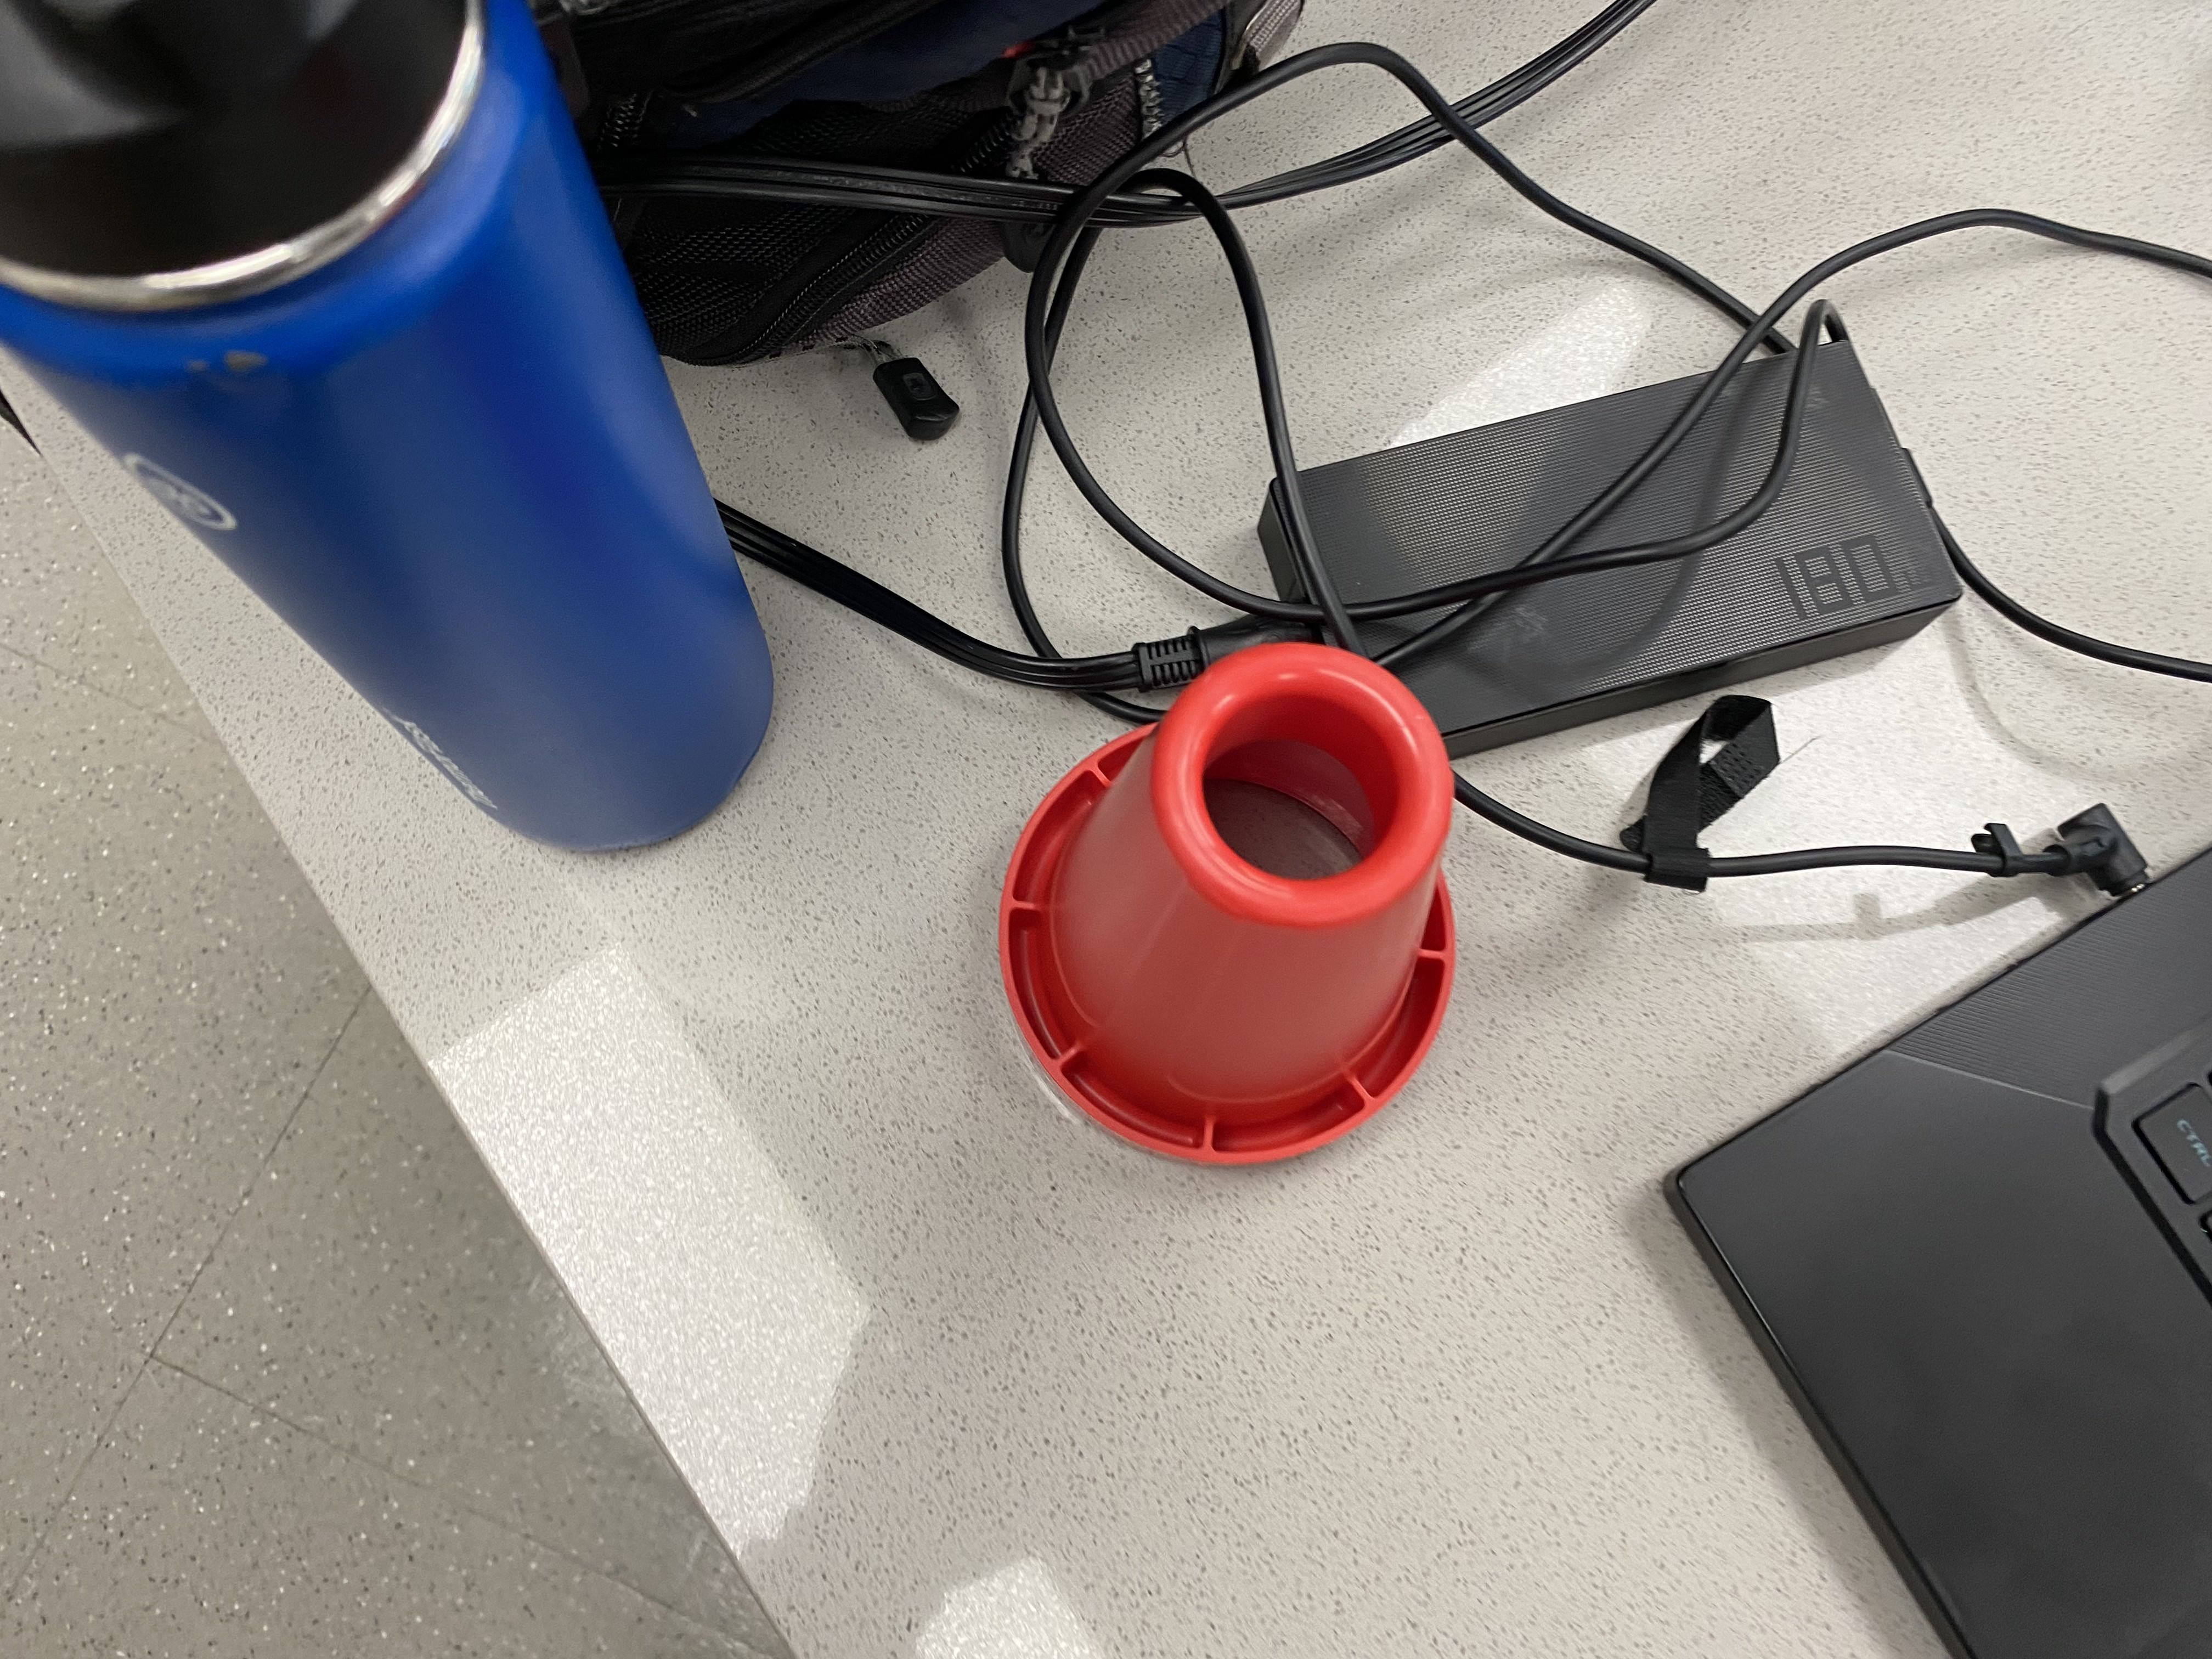redCone: (991, 634, 1465, 1180)
